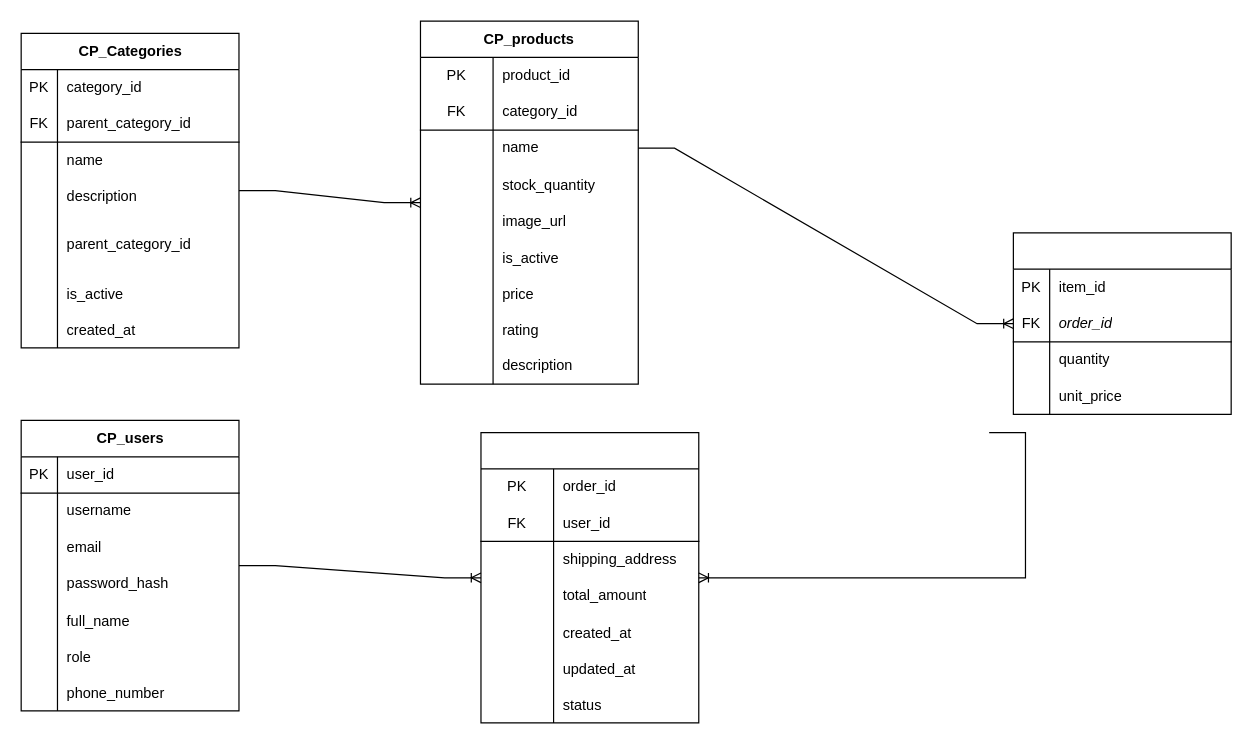
Some shapes in this 1252 by 744 pixel diagram are drawn without their labels. The box of each missing label's shape, as (x1, y1, x2, y2) in pixels:
CP_orderItems: (1012, 232, 1231, 414)
CP_orders: (480, 431, 699, 723)
